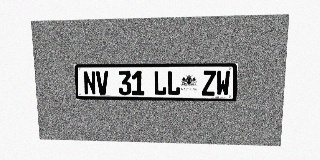1: (131, 71, 144, 95)
3: (118, 71, 131, 95)
L: (153, 71, 167, 95), (167, 71, 180, 95)
N: (83, 71, 96, 95)
V: (96, 71, 109, 95)
W: (216, 71, 230, 96)
Z: (202, 71, 216, 96)
